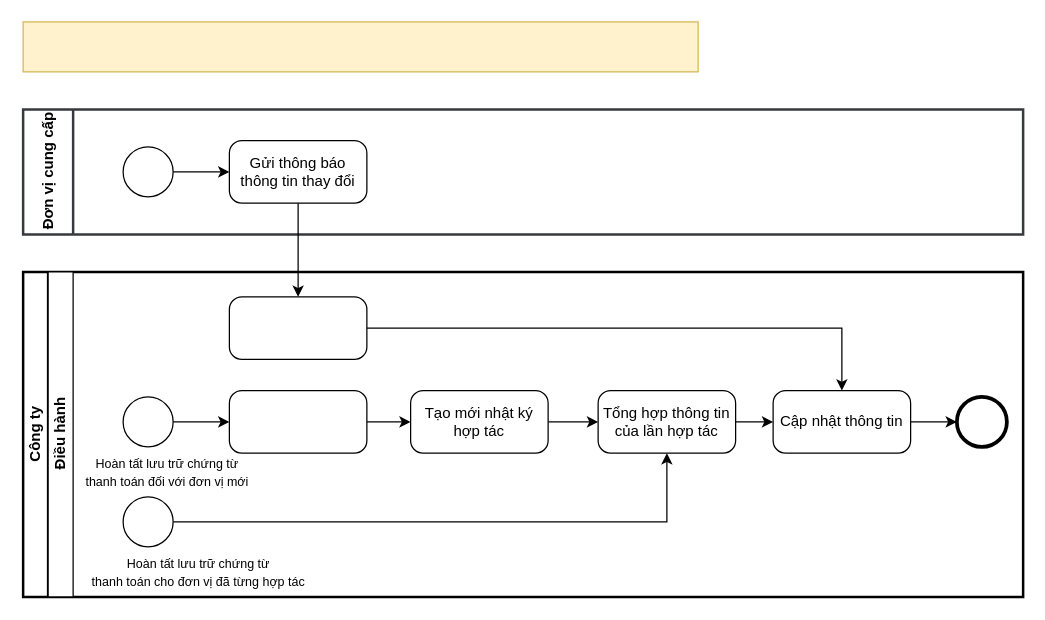
The diagram is 1045 pixels wide and 620 high, and some of its shapes have lost their labels. The centre of each missing label's shape, as x and y in pixels:
"Quy trình cập nhật thông tin đơn vị cung cấp" belongs at [360,46].
"Tiếp nhận thông tin" belongs at [297,327].
"Tạo mới thông tin đơn vị" belongs at [297,421].
